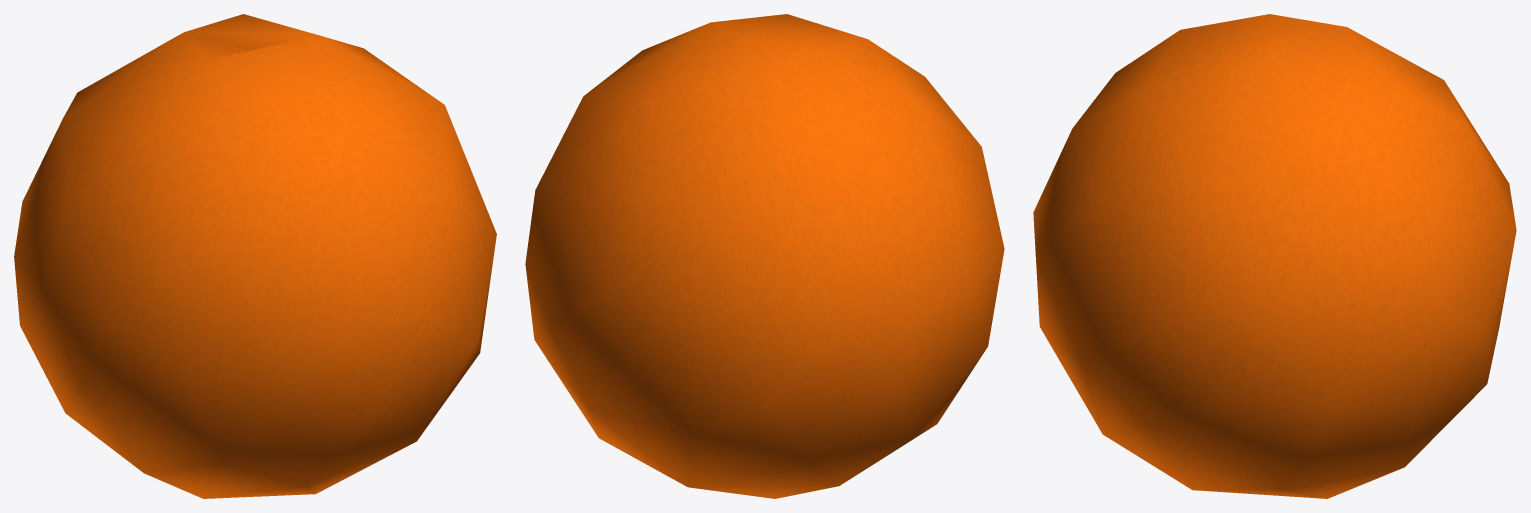
File: Orange.obj
The picture shows the model from 3 angles, left to right: view 1: azimuth 30°, elevation 25°; view 2: azimuth 150°, elevation 25°; view 3: azimuth 270°, elevation 25°; orthographic projection.
Visible parts, largest first — view 1: Orange.001; view 2: Orange.001; view 3: Orange.001.
Boxes of the visible parts, <box> form: Orange.001: <box>14,14,496,498</box>; Orange.001: <box>525,14,1004,498</box>; Orange.001: <box>1033,14,1516,498</box>.
Size of the model in its own units: 2 by 1.96 by 1.99.
Materials: 2 (2 with a texture image).
